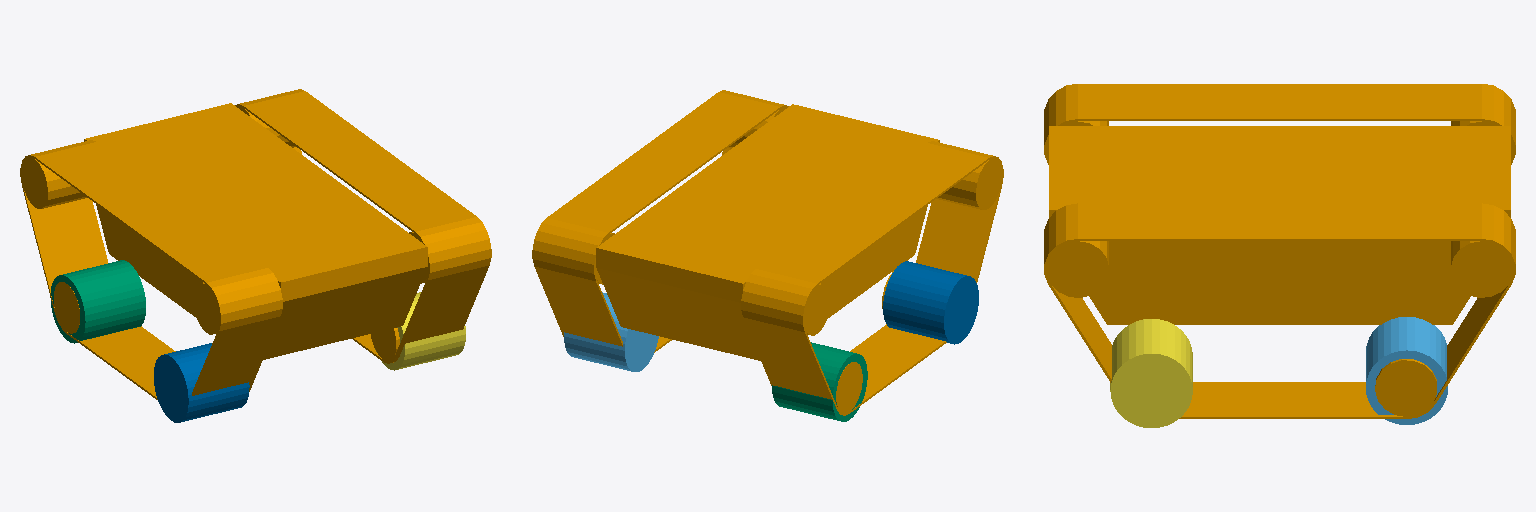
URDF robot description (capra6):
<?xml version="1.0" ?>
<robot name="capra6">
  <joint name="capra6__JOINT_WHEEL_F_R" type="revolute">
    <parent link="base_link"/>
    <child link="capra6__link_0"/>
    <origin rpy="0  0  0" xyz="0.28816  0.15376 -0.19177"/>
    <axis xyz="-1  0  0"/>
    <limit effort="-1.0" lower="-1.79769e+308" upper="1.79769e+308" velocity="-1.0"/>
  </joint>
  <joint name="capra6__JOINT_WHEEL_R_R" type="revolute">
    <parent link="base_link"/>
    <child link="capra6__link_0_clone_0"/>
    <origin rpy="0  0  0" xyz="0.29719 -0.15535 -0.19177"/>
    <axis xyz="-1  0  0"/>
    <limit effort="-1.0" lower="-1.79769e+308" upper="1.79769e+308" velocity="-1.0"/>
  </joint>
  <joint name="capra6__JOINT_WHEEL_R_L" type="revolute">
    <parent link="base_link"/>
    <child link="capra6__link_0_clone_1"/>
    <origin rpy="0  0  0" xyz="-0.05803 -0.15462 -0.19177"/>
    <axis xyz="1  0  0"/>
    <limit effort="-1.0" lower="-1.79769e+308" upper="1.79769e+308" velocity="-1.0"/>
  </joint>
  <joint name="capra6__JOINT_WHEEL_F_L" type="revolute">
    <parent link="base_link"/>
    <child link="capra6__link_0_clone"/>
    <origin rpy="0  0  0" xyz="-0.05127  0.15058 -0.19177"/>
    <axis xyz="1  0  0"/>
    <limit effort="-1.0" lower="-1.79769e+308" upper="1.79769e+308" velocity="-1.0"/>
  </joint>
  <link name="base_link">
    <inertial>
      <mass value="23.124"/>
      <origin rpy="0  0  0" xyz="0.12065  0      -0.07942"/>
      <inertia ixx="0.660306" ixy="-1.78746e-18" ixz="0" iyy="0.303669" iyz="8.59691e-17" izz="0.815602"/>
    </inertial>
    <collision name="base_link_collision">
      <origin rpy="1.5708  0      0" xyz="0  0  0"/>
      <geometry>
        <mesh filename="package://robotcapra/meshes/robotcapra.stl" scale="1 1 1"/>
      </geometry>
    </collision>
    <collision name="base_link_fixed_joint_lump__laser_collision_1">
      <origin rpy="0      0      1.5708" xyz="0.1   0.25  0.05"/>
      <geometry>
        <sphere radius="0.1"/>
      </geometry>
    </collision>
    <visual name="base_link_visual">
      <origin rpy="1.5708  0      0" xyz="0  0  0"/>
      <geometry>
        <mesh filename="package://robotcapra/meshes/robotcapra.stl" scale="1 1 1"/>
      </geometry>
    </visual>
  </link>
  <link name="capra6__link_0">
    <inertial>
      <mass value="1"/>
      <origin rpy="0  0  0" xyz="0  0  0"/>
      <inertia ixx="0.145833" ixy="0" ixz="0" iyy="0.145833" iyz="0" izz="0.125"/>
    </inertial>
    <collision name="capra6__collision">
      <origin rpy="3.14159  1.57079  3.14159" xyz="0  0  0"/>
      <geometry>
        <cylinder length="0.1" radius="0.05"/>
      </geometry>
    </collision>
    <visual name="capra6__visual">
      <origin rpy="3.14159  1.57079  3.14159" xyz="0  0  0"/>
      <geometry>
        <cylinder length="0.1" radius="0.05"/>
      </geometry>
    </visual>
  </link>
  <link name="capra6__link_0_clone">
    <inertial>
      <mass value="1"/>
      <origin rpy="0  0  0" xyz="0  0  0"/>
      <inertia ixx="0.145833" ixy="0" ixz="0" iyy="0.145833" iyz="0" izz="0.125"/>
    </inertial>
    <collision name="capra6__collision">
      <origin rpy="3.14159  1.57079  3.14159" xyz="0  0  0"/>
      <geometry>
        <cylinder length="0.1" radius="0.05"/>
      </geometry>
    </collision>
    <visual name="capra6__visual">
      <origin rpy="3.14159  1.57079  3.14159" xyz="0  0  0"/>
      <geometry>
        <cylinder length="0.1" radius="0.05"/>
      </geometry>
    </visual>
  </link>
  <link name="capra6__link_0_clone_0">
    <inertial>
      <mass value="1"/>
      <origin rpy="0  0  0" xyz="0  0  0"/>
      <inertia ixx="0.145833" ixy="0" ixz="0" iyy="0.145833" iyz="0" izz="0.125"/>
    </inertial>
    <collision name="capra6__collision">
      <origin rpy="3.14159  1.57079  3.14159" xyz="0  0  0"/>
      <geometry>
        <cylinder length="0.1" radius="0.05"/>
      </geometry>
    </collision>
    <visual name="capra6__visual">
      <origin rpy="3.14159  1.57079  3.14159" xyz="0  0  0"/>
      <geometry>
        <cylinder length="0.1" radius="0.05"/>
      </geometry>
    </visual>
  </link>
  <link name="capra6__link_0_clone_1">
    <inertial>
      <mass value="1"/>
      <origin rpy="0  0  0" xyz="0  0  0"/>
      <inertia ixx="0.145833" ixy="0" ixz="0" iyy="0.145833" iyz="0" izz="0.125"/>
    </inertial>
    <collision name="capra6__collision">
      <origin rpy="3.14159  1.57079  3.14159" xyz="0  0  0"/>
      <geometry>
        <cylinder length="0.1" radius="0.05"/>
      </geometry>
    </collision>
    <visual name="capra6__visual">
      <origin rpy="3.14159  1.57079  3.14159" xyz="0  0  0"/>
      <geometry>
        <cylinder length="0.1" radius="0.05"/>
      </geometry>
    </visual>
  </link>

<joint name="joint1" type="fixed">
      <parent link="base_link" />
      <child link="laser" />
      <origin xyz="0.1 0.25 0.05" rpy="0 0 1.5707963267949" />
  </joint>

  <link name="laser">
      <inertial>
          <mass value="0" />
          <inertia ixx="0" ixy="0.0" ixz="0.0" iyy="0" iyz="0.0" izz="0" />
      </inertial>
      <collision>
          <geometry>
              <sphere radius="0.1" />
          </geometry>
      </collision>
  </link>

<gazebo reference="laser">
      <gravity>false</gravity>
      <material>Gazebo/Red</material>

      <sensor type="ray" name="sensor">

        <!-- Position the ray sensor based on the specification. Also rotate
              it by 90 degrees around the X-axis so that the <horizontal> rays
              become vertical -->
        <pose>0 0 0 0 0 0</pose>

        <!-- Enable visualization to see the rays in the GUI -->
        <visualize>true</visualize>

        <!-- Set the update rate of the sensor -->
        <update_rate>30</update_rate>
        <ray>

          <!-- The scan element contains the horizontal and vertical beams.
                We are leaving out the vertical beams for this tutorial. -->
          <scan>

            <!-- The horizontal beams -->
            <horizontal>
              <!-- The velodyne has 32 beams(samples) -->
              <samples>540</samples>

              <resolution>1</resolution>

              <!-- Minimum angle in radians -->
              <min_angle>-2.3562</min_angle>

              <!-- Maximum angle in radians -->
              <max_angle>2.3562</max_angle>   
            </horizontal>
          </scan>

          <!-- Range defines characteristics of an individual beam -->
          <range>
            <!-- Minimum distance of the beam -->
            <min>0.2</min>

            <!-- Maximum distance of the beam -->
            <max>4</max>

            <!-- Linear resolution of the beam -->
            <resolution>0.1</resolution>
          </range>
          <noise>
            <type>gaussian</type>
            <mean>0.0</mean>
            <stddev>0.01</stddev>
          </noise>
        </ray>
        <plugin name="laser" filename="libgazebo_ros_laser.so">
          <topicName>/scan</topicName>
          <frameName>laser</frameName>
        </plugin>
        <always_on>1</always_on>
        <update_rate>5</update_rate>
        <visualize>true</visualize>
      </sensor>
  </gazebo>
  <gazebo>
      <plugin name="object_controller" filename="libgazebo_ros_planar_move.so">
          <commandTopic>/cmd_vel</commandTopic>
          <odometryTopic>/odom</odometryTopic>
          <odometryFrame>odom</odometryFrame>
          <odometryRate>20.0</odometryRate>
          <robotBaseFrame>base_link</robotBaseFrame>
      </plugin>

  </gazebo>
</robot>

--- Facts derived from the render (not from the file) ---
The picture shows the robot from 3 angles, left to right: view 1: azimuth 30°, elevation 25°; view 2: azimuth 150°, elevation 25°; view 3: azimuth 270°, elevation 25°; orthographic projection.
Model capra6 with 6 links and 5 joints (4 revolute, 1 fixed), rooted at base_link, posed every joint at zero.
Visible links, largest first — view 1: base_link, capra6__link_0_clone, capra6__link_0_clone_1, capra6__link_0_clone_0; view 2: base_link, capra6__link_0_clone_1, capra6__link_0_clone, capra6__link_0; view 3: base_link, capra6__link_0_clone_0, capra6__link_0.
Boxes of the visible links, box(x1,y1,x2,y2) form: base_link: box(20, 89, 491, 399); capra6__link_0_clone: box(50, 260, 145, 343); capra6__link_0_clone_1: box(154, 343, 249, 422); capra6__link_0_clone_0: box(375, 292, 465, 370); base_link: box(532, 90, 1003, 415); capra6__link_0_clone_1: box(883, 261, 978, 344); capra6__link_0_clone: box(772, 342, 867, 421); capra6__link_0: box(564, 292, 658, 371); base_link: box(1044, 84, 1515, 418); capra6__link_0_clone_0: box(1110, 319, 1192, 427); capra6__link_0: box(1366, 317, 1447, 424).
Size in the robot's own frame: 0.4552 by 0.5703 by 0.2513 metres.
1 mesh visuals loaded from 1 distinct referenced files (1 binary STL).
